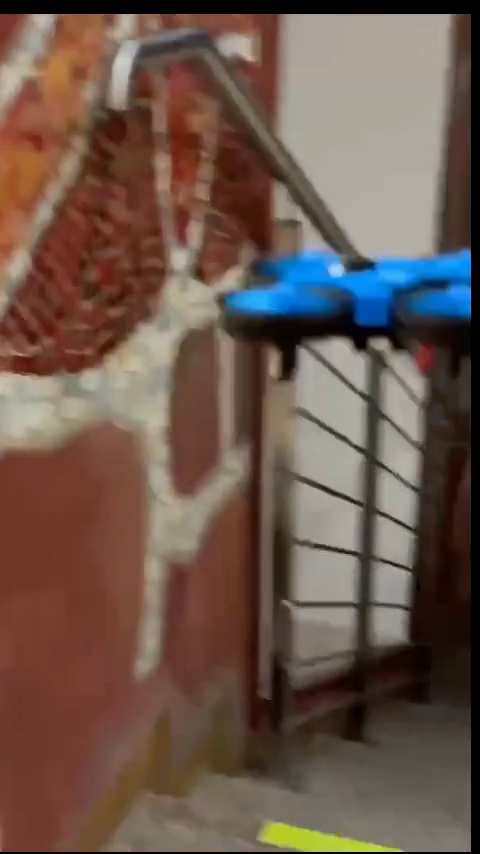drone: (220, 245, 477, 390)
